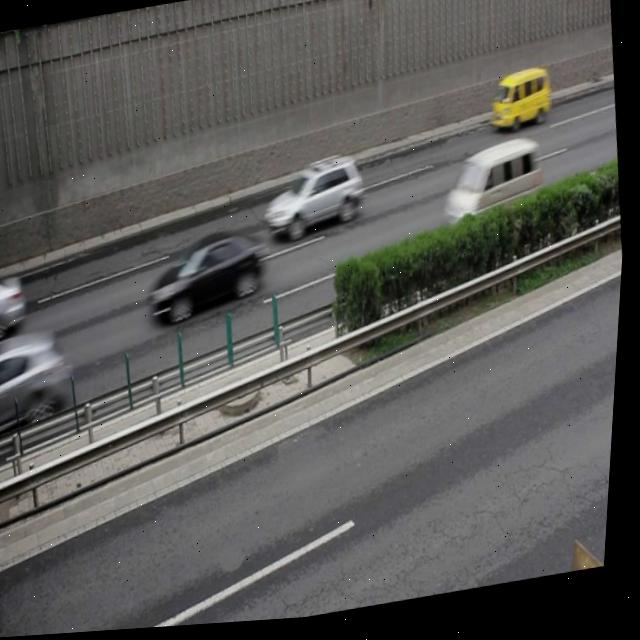car: (146, 234, 274, 329), (263, 158, 369, 245), (0, 327, 77, 436), (0, 267, 31, 343)
truck: (442, 144, 549, 240), (486, 71, 554, 139)
